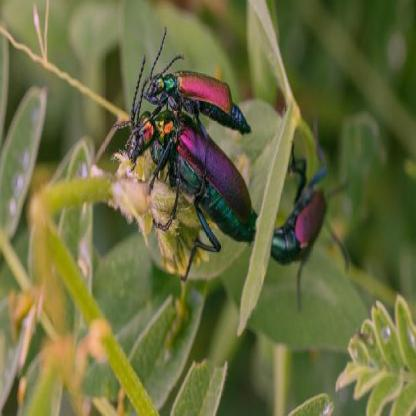beetle: (121, 80, 258, 251), (144, 24, 249, 135), (259, 141, 334, 274)
